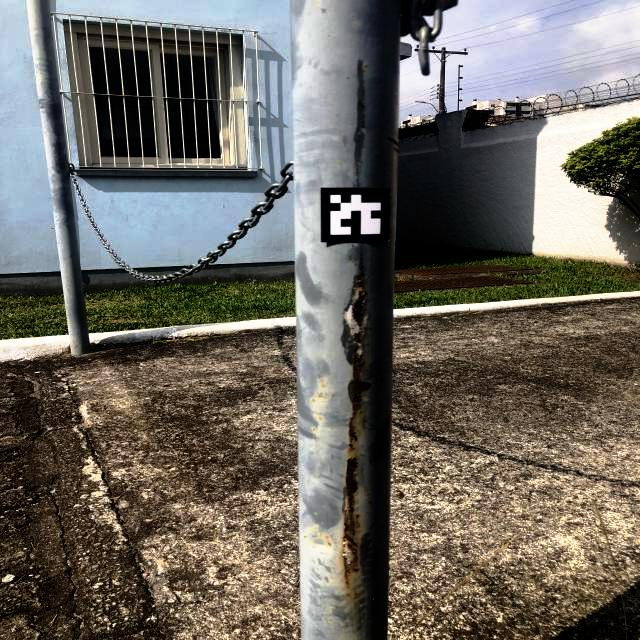Corrosion: (342, 456, 360, 589), (394, 276, 534, 292), (395, 264, 532, 275), (352, 272, 367, 371), (348, 390, 363, 452), (353, 365, 363, 392), (388, 137, 398, 145), (354, 592, 358, 599), (394, 148, 399, 153), (327, 542, 331, 546), (346, 593, 350, 596), (362, 419, 366, 422), (318, 395, 322, 397), (369, 501, 372, 503), (312, 399, 315, 401), (313, 428, 315, 431), (326, 536, 328, 538), (313, 546, 315, 548), (331, 427, 333, 429)
